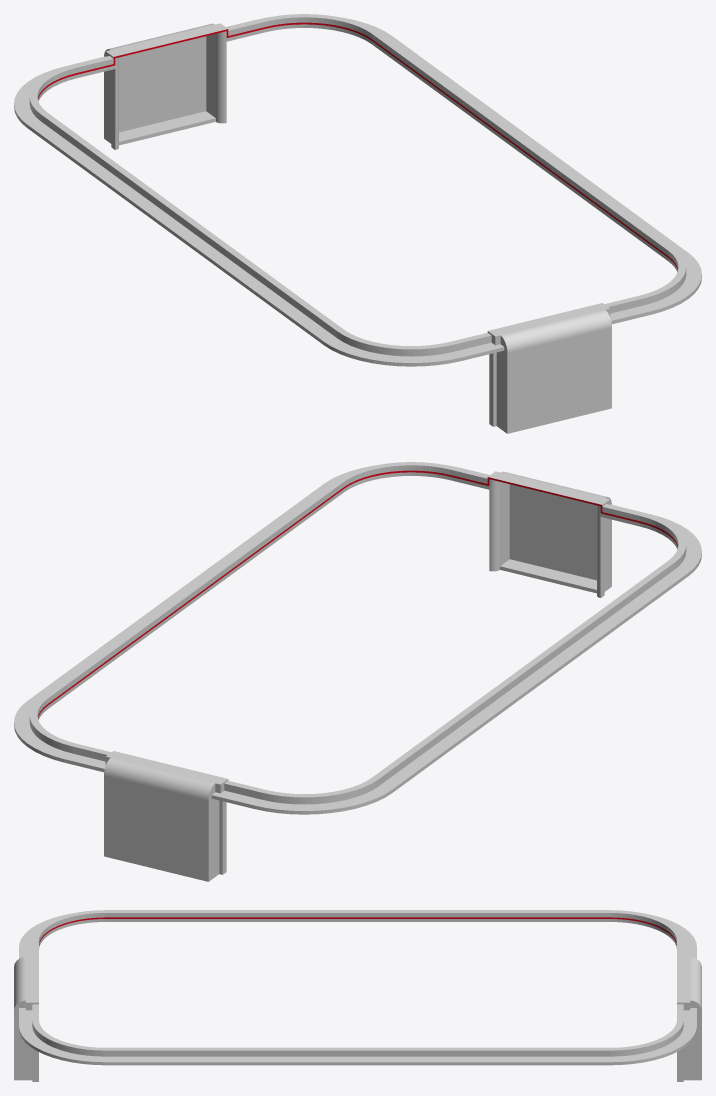
File: boards.dae
3 views of the same model, one above another, from view 1: azimuth 30°, elevation 25°; view 2: azimuth 150°, elevation 25°; view 3: azimuth 270°, elevation 25° (orthographic). The views are drawn at different scales.
Parts seen in each view (by area): view 1: group_0 (×2); view 2: group_0 (×2); view 3: group_0 (×2).
Part boxes in pixels (box(x1,y1,x2,y2)): group_0 (×2): box(14, 14, 701, 433); group_0 (×2): box(14, 462, 701, 881); group_0 (×2): box(14, 910, 701, 1081).
Size of the model in its own units: 54 by 104 by 13.25.
